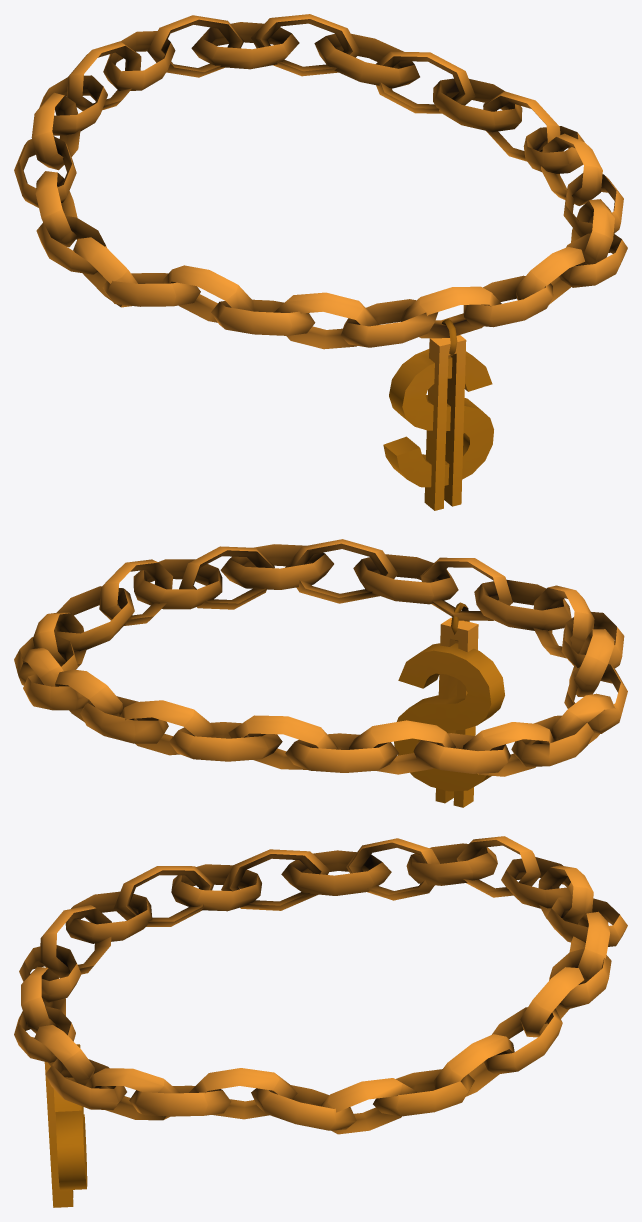
Rendered from Belt_Chain_Gold.gltf.
3 renders of one model, top to bottom at view 1: azimuth 30°, elevation 25°; view 2: azimuth 150°, elevation 25°; view 3: azimuth 270°, elevation 25°, orthographic. The views are drawn at different scales.
Visible parts, largest first — view 1: Belt_Chain_Gold; view 2: Belt_Chain_Gold; view 3: Belt_Chain_Gold.
Part boxes in pixels (<box>): Belt_Chain_Gold: <box>14,14,627,510</box>; Belt_Chain_Gold: <box>14,539,627,807</box>; Belt_Chain_Gold: <box>14,836,627,1207</box>.
Bounding box in the file's own units: 0.8833 × 0.4698 × 0.908.
1 material, 1 textured.
